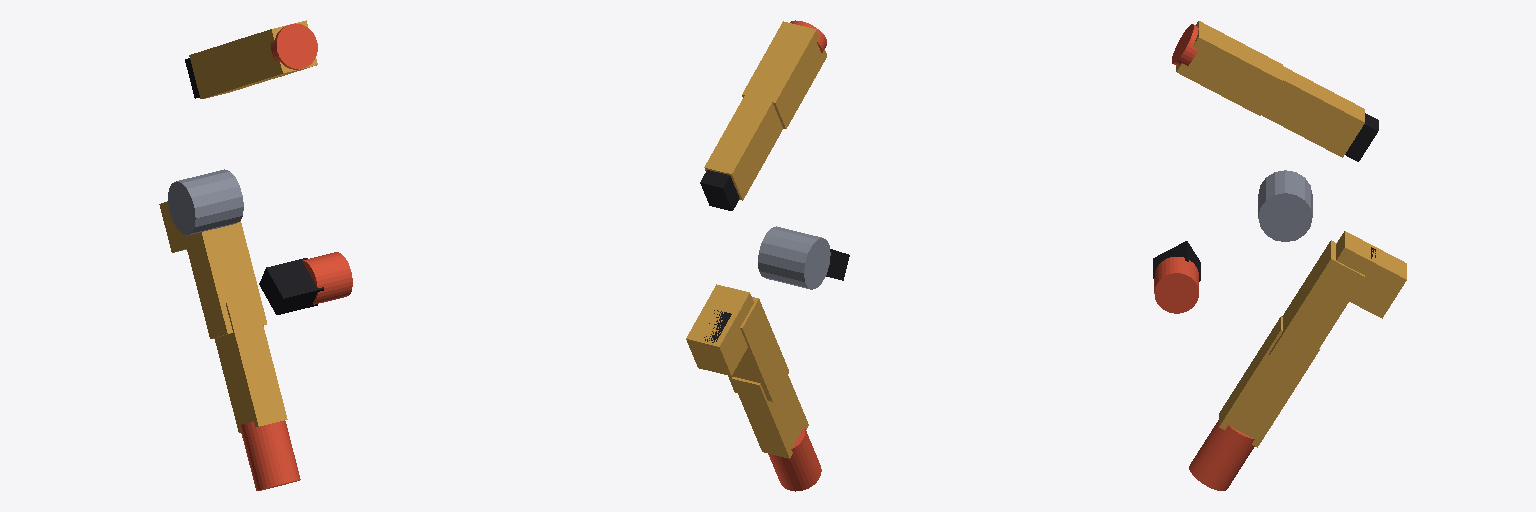
URDF robot description (g0010_c09):
<robot name="g0010_c09">
  <link name="palm">
    <visual name="palm_palm1">
      <origin xyz="0 0 0" rpy="0 0 0" />
      <geometry>
        <mesh filename="palm_palm1.obj" />
      </geometry>
      <material name="palm_palm1_mat">
        <color rgba="0.55 0.57 0.62 1" />
      </material>
    </visual>
    <collision>
      <origin xyz="0 0 0" rpy="0 0 0" />
      <geometry>
        <mesh filename="palm_palm1.obj" />
      </geometry>
    </collision>
    <visual name="palm_mount2">
      <origin xyz="0 0 0" rpy="0 0 0" />
      <geometry>
        <mesh filename="palm_mount2.obj" />
      </geometry>
      <material name="palm_mount2_mat">
        <color rgba="0.55 0.57 0.62 1" />
      </material>
    </visual>
    <collision>
      <origin xyz="0 0 0" rpy="0 0 0" />
      <geometry>
        <mesh filename="palm_mount2.obj" />
      </geometry>
    </collision>
    <visual name="palm_motor3">
      <origin xyz="-0.007 -0.08 -0.04" rpy="3.5352508e-17 -0.523598776 1.57079633" />
      <geometry>
        <box size="0.029 0.034 0.02" />
      </geometry>
      <material name="palm_motor3_mat">
        <color rgba="0.15 0.15 0.17 1" />
      </material>
    </visual>
    <collision>
      <origin xyz="-0.007 -0.08 -0.04" rpy="3.5352508e-17 -0.523598776 1.57079633" />
      <geometry>
        <box size="0.029 0.034 0.02" />
      </geometry>
    </collision>
    <visual name="palm_motor4">
      <origin xyz="-0.0045 0.0666996732 -0.0467548095" rpy="1.57079633 -0.523598776 -1.57079633" />
      <geometry>
        <box size="0.029 0.034 0.02" />
      </geometry>
      <material name="palm_motor4_mat">
        <color rgba="0.15 0.15 0.17 1" />
      </material>
    </visual>
    <collision>
      <origin xyz="-0.0045 0.0666996732 -0.0467548095" rpy="1.57079633 -0.523598776 -1.57079633" />
      <geometry>
        <box size="0.029 0.034 0.02" />
      </geometry>
    </collision>
    <visual name="palm_motor5">
      <origin xyz="0 0.0464951905 0.07625" rpy="-1.57079633 -1.04719755 1.57079633" />
      <geometry>
        <box size="0.029 0.034 0.02" />
      </geometry>
      <material name="palm_motor5_mat">
        <color rgba="0.15 0.15 0.17 1" />
      </material>
    </visual>
    <collision>
      <origin xyz="0 0.0464951905 0.07625" rpy="-1.57079633 -1.04719755 1.57079633" />
      <geometry>
        <box size="0.029 0.034 0.02" />
      </geometry>
    </collision>
    <inertial>
      <origin xyz="4.10230003e-19 0.0125388086 -0.00278626911" rpy="1.57079633 -0.640542859 1.57079633" />
      <mass value="0.828061093" />
      <inertia ixx="0.00110547347" ixy="0" ixz="0" iyy="0.00203340097" iyz="0" izz="0.00305938057" />
    </inertial>
  </link>
  <link name="f0_link0">
    <visual name="f0_link0_link1">
      <origin xyz="0.019 -1.38777878e-17 -2.60208521e-18" rpy="-1.57079633 -0 -1.57079633" />
      <geometry>
        <cylinder radius="0.0165" length="0.029" />
      </geometry>
      <material name="f0_link0_link1_mat">
        <color rgba="0.85 0.35 0.25 1" />
      </material>
    </visual>
    <collision>
      <origin xyz="0.019 -1.38777878e-17 -2.60208521e-18" rpy="-1.57079633 -0 -1.57079633" />
      <geometry>
        <cylinder radius="0.0165" length="0.029" />
      </geometry>
    </collision>
    <inertial>
      <origin xyz="0.019 0 0" rpy="0 0 0" />
      <mass value="0.0763354" />
      <inertia ixx="9.49466441e-06" ixy="0" ixz="0" iyy="2.24143997e-05" iyz="0" izz="2.24143997e-05" />
    </inertial>
  </link>
  <link name="f1_link0">
    <visual name="f1_link0_link1">
      <origin xyz="-0.00625 0 -0.0165" rpy="0 4.06369831e-17 0" />
      <geometry>
        <box size="0.0365 0.029 0.053" />
      </geometry>
      <material name="f1_link0_link1_mat">
        <color rgba="0.80 0.62 0.30 1" />
      </material>
    </visual>
    <collision>
      <origin xyz="-0.00625 0 -0.0165" rpy="0 4.06369831e-17 0" />
      <geometry>
        <box size="0.0365 0.029 0.053" />
      </geometry>
    </collision>
    <inertial>
      <origin xyz="-0.00625 0 -0.0165" rpy="0 0 0" />
      <mass value="0.098175875" />
      <inertia ixx="2.98618286e-05" ixy="0" ixz="0" iyy="3.38809035e-05" iyz="0" izz="1.778006e-05" />
    </inertial>
  </link>
  <link name="f1_link1">
    <visual name="f1_link1_link1">
      <origin xyz="0.03375 0 6.9388939e-18" rpy="0 4.06369831e-17 0" />
      <geometry>
        <box size="0.0915 0.033 0.029" />
      </geometry>
      <material name="f1_link1_link1_mat">
        <color rgba="0.80 0.62 0.30 1" />
      </material>
    </visual>
    <collision>
      <origin xyz="0.03375 0 6.9388939e-18" rpy="0 4.06369831e-17 0" />
      <geometry>
        <box size="0.0915 0.033 0.029" />
      </geometry>
    </collision>
    <inertial>
      <origin xyz="0.03375 0 0" rpy="0 0 0" />
      <mass value="0.153239625" />
      <inertia ixx="2.46460397e-05" ixy="0" ixz="0" iyy="0.000117652915" iyz="0" izz="0.000120819867" />
    </inertial>
  </link>
  <link name="f1_link2">
    <visual name="f1_link2_link1">
      <origin xyz="0.03375 0 -1.38777878e-17" rpy="0 4.06369831e-17 0" />
      <geometry>
        <box size="0.0915 0.024 0.033" />
      </geometry>
      <material name="f1_link2_link1_mat">
        <color rgba="0.80 0.62 0.30 1" />
      </material>
    </visual>
    <collision>
      <origin xyz="0.03375 0 -1.38777878e-17" rpy="0 4.06369831e-17 0" />
      <geometry>
        <box size="0.0915 0.024 0.033" />
      </geometry>
    </collision>
    <inertial>
      <origin xyz="0.03375 0 0" rpy="0 0 0" />
      <mass value="0.126819" />
      <inertia ixx="1.75961363e-05" ixy="0" ixz="0" iyy="9.99888553e-05" iyz="0" izz="9.45673431e-05" />
    </inertial>
  </link>
  <link name="f1_link3">
    <visual name="f1_link3_link1">
      <origin xyz="0.029 0 1.04083409e-17" rpy="-1.57079633 -0 -1.57079633" />
      <geometry>
        <cylinder radius="0.0165" length="0.049" />
      </geometry>
      <material name="f1_link3_link1_mat">
        <color rgba="0.85 0.35 0.25 1" />
      </material>
    </visual>
    <collision>
      <origin xyz="0.029 0 1.04083409e-17" rpy="-1.57079633 -0 -1.57079633" />
      <geometry>
        <cylinder radius="0.0165" length="0.049" />
      </geometry>
    </collision>
    <inertial>
      <origin xyz="0.029 0 0" rpy="0 0 0" />
      <mass value="0.106270851" />
      <inertia ixx="1.35696277e-05" ixy="0" ixz="0" iyy="5.30015704e-05" iyz="0" izz="5.30015704e-05" />
    </inertial>
  </link>
  <link name="f2_link0">
    <visual name="f2_link0_link1">
      <origin xyz="0.03375 0 0" rpy="0 7.03853194e-17 0" />
      <geometry>
        <box size="0.0915 0.024 0.033" />
      </geometry>
      <material name="f2_link0_link1_mat">
        <color rgba="0.80 0.62 0.30 1" />
      </material>
    </visual>
    <collision>
      <origin xyz="0.03375 0 0" rpy="0 7.03853194e-17 0" />
      <geometry>
        <box size="0.0915 0.024 0.033" />
      </geometry>
    </collision>
    <inertial>
      <origin xyz="0.03375 0 0" rpy="0 0 0" />
      <mass value="0.126819" />
      <inertia ixx="1.75961363e-05" ixy="0" ixz="0" iyy="9.99888553e-05" iyz="0" izz="9.45673431e-05" />
    </inertial>
  </link>
  <link name="f2_link1">
    <visual name="f2_link1_link1">
      <origin xyz="0.02375 0 -1.38777878e-17" rpy="0 7.03853194e-17 0" />
      <geometry>
        <box size="0.0715 0.029 0.033" />
      </geometry>
      <material name="f2_link1_link1_mat">
        <color rgba="0.80 0.62 0.30 1" />
      </material>
    </visual>
    <collision>
      <origin xyz="0.02375 0 -1.38777878e-17" rpy="0 7.03853194e-17 0" />
      <geometry>
        <box size="0.0715 0.029 0.033" />
      </geometry>
    </collision>
    <inertial>
      <origin xyz="0.02375 0 0" rpy="0 0 0" />
      <mass value="0.119744625" />
      <inertia ixx="1.92589272e-05" ixy="0" ixz="0" iyy="6.18805296e-05" iyz="0" izz="5.94058074e-05" />
    </inertial>
  </link>
  <link name="f2_link2">
    <visual name="f2_link2_link1">
      <origin xyz="0.009 0 -1.38777878e-17" rpy="-1.57079633 -0 -1.57079633" />
      <geometry>
        <cylinder radius="0.0165" length="0.009" />
      </geometry>
      <material name="f2_link2_link1_mat">
        <color rgba="0.85 0.35 0.25 1" />
      </material>
    </visual>
    <collision>
      <origin xyz="0.009 0 -1.38777878e-17" rpy="-1.57079633 -0 -1.57079633" />
      <geometry>
        <cylinder radius="0.0165" length="0.009" />
      </geometry>
    </collision>
    <inertial>
      <origin xyz="0.009 0 0" rpy="0 0 0" />
      <mass value="0.046399949" />
      <inertia ixx="5.41970115e-06" ixy="0" ixz="0" iyy="7.09430898e-06" iyz="0" izz="7.09430898e-06" />
    </inertial>
  </link>
  <joint name="f0_j0" type="revolute">
    <parent link="palm" />
    <child link="f0_link0" />
    <origin xyz="0.0005 -0.08 -0.04" rpy="0.523598776 3.061617e-17 -5.30287619e-17" />
    <axis xyz="0 1 6.123234e-17" />
    <limit effort="0.5" lower="-0.523598776" upper="0.523598776" velocity="5" />
    <dynamics damping="0.0775033" friction="0" />
  </joint>
  <joint name="f1_j0" type="revolute">
    <parent link="palm" />
    <child link="f1_link0" />
    <origin xyz="-0.0045 0.04 -0.04" rpy="0 1.04719755 -1.57079633" />
    <axis xyz="0 0 1" />
    <limit effort="0.5" lower="-0.523598776" upper="1.57079633" velocity="5" />
    <dynamics damping="0.0775033" friction="0" />
  </joint>
  <joint name="f1_j1" type="revolute">
    <parent link="f1_link0" />
    <child link="f1_link1" />
    <origin xyz="0 0 0" rpy="0 0 0" />
    <axis xyz="0 1 6.123234e-17" />
    <limit effort="0.5" lower="-0.523598776" upper="0.523598776" velocity="5" />
    <dynamics damping="0.0775033" friction="0" />
  </joint>
  <joint name="f1_j2" type="revolute">
    <parent link="f1_link1" />
    <child link="f1_link2" />
    <origin xyz="0.07 0 0" rpy="0 0 0" />
    <axis xyz="0 0 1" />
    <limit effort="0.5" lower="-0.523598776" upper="1.57079633" velocity="5" />
    <dynamics damping="0.0775033" friction="0" />
  </joint>
  <joint name="f1_j3" type="revolute">
    <parent link="f1_link2" />
    <child link="f1_link3" />
    <origin xyz="0.07 0 0" rpy="0 0 0" />
    <axis xyz="0 0 1" />
    <limit effort="0.5" lower="-0.523598776" upper="1.57079633" velocity="5" />
    <dynamics damping="0.0775033" friction="0" />
  </joint>
  <joint name="f2_j0" type="revolute">
    <parent link="palm" />
    <child link="f2_link0" />
    <origin xyz="0 0.04 0.08" rpy="-0 -0.523598776 -1.57079633" />
    <axis xyz="0 0 1" />
    <limit effort="0.5" lower="-0.523598776" upper="1.57079633" velocity="5" />
    <dynamics damping="0.0775033" friction="0" />
  </joint>
  <joint name="f2_j1" type="revolute">
    <parent link="f2_link0" />
    <child link="f2_link1" />
    <origin xyz="0.07 0 0" rpy="0 0 0" />
    <axis xyz="0 0 1" />
    <limit effort="0.5" lower="-0.523598776" upper="1.57079633" velocity="5" />
    <dynamics damping="0.0775033" friction="0" />
  </joint>
  <joint name="f2_j2" type="revolute">
    <parent link="f2_link1" />
    <child link="f2_link2" />
    <origin xyz="0.05 0 0" rpy="0 0 0" />
    <axis xyz="-0 -1 -6.123234e-17" />
    <limit effort="0.5" lower="-0.523598776" upper="0.523598776" velocity="5" />
    <dynamics damping="0.0775033" friction="0" />
  </joint>
</robot>

--- Facts derived from the render (not from the file) ---
Views: 3 orthographic renders of the robot side by side, from view 1: azimuth 30°, elevation 25°; view 2: azimuth 150°, elevation 25°; view 3: azimuth 270°, elevation 25°.
Robot: g0010_c09 — 9 links, 8 joints (8 revolute); root link palm; default pose: all joints at 0.
Visible links, largest first — view 1: palm, f1_link2, f1_link1, f1_link3, f2_link1, f2_link0, f0_link0, f2_link2, f1_link0; view 2: palm, f2_link1, f2_link0, f1_link0, f1_link2, f1_link1, f1_link3; view 3: f1_link1, f2_link1, f2_link0, palm, f1_link2, f1_link0, f1_link3, f0_link0, f2_link2.
Boxes of the visible links, box(x1,y1,x2,y2) form: palm: box(168, 58, 323, 314); f1_link2: box(214, 296, 287, 432); f1_link1: box(183, 221, 266, 338); f1_link3: box(239, 421, 300, 490); f2_link1: box(229, 20, 317, 86); f2_link0: box(189, 43, 280, 98); f0_link0: box(302, 252, 352, 304); f2_link2: box(271, 23, 317, 69); f1_link0: box(159, 201, 186, 252); palm: box(700, 170, 849, 342); f2_link1: box(742, 21, 826, 128); f2_link0: box(704, 74, 783, 200); f1_link0: box(686, 284, 753, 375); f1_link2: box(732, 376, 808, 458); f1_link1: box(728, 297, 788, 401); f1_link3: box(768, 427, 821, 491); f1_link1: box(1269, 240, 1364, 373); f2_link1: box(1176, 21, 1282, 115); f2_link0: box(1262, 66, 1364, 157); palm: box(1153, 113, 1378, 281); f1_link2: box(1219, 316, 1319, 447); f1_link0: box(1336, 231, 1406, 318); f1_link3: box(1189, 420, 1254, 490); f0_link0: box(1154, 257, 1198, 313); f2_link2: box(1172, 24, 1198, 65).
Bounding box of the posed robot: 0.086 × 0.187 × 0.3769 m (x, y, z).
Meshes: 2 distinct files referenced, 1 mesh visuals loaded (1 OBJ); not drawn: 1 (reference not matched to a file when rendering).
